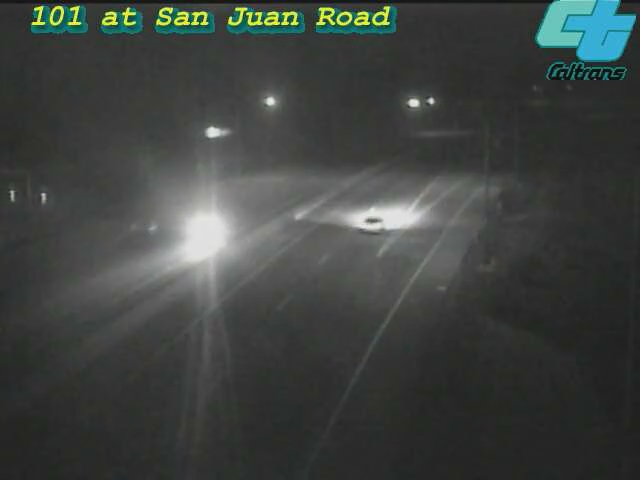vehicle: (333, 184, 413, 264), (157, 196, 237, 276)
